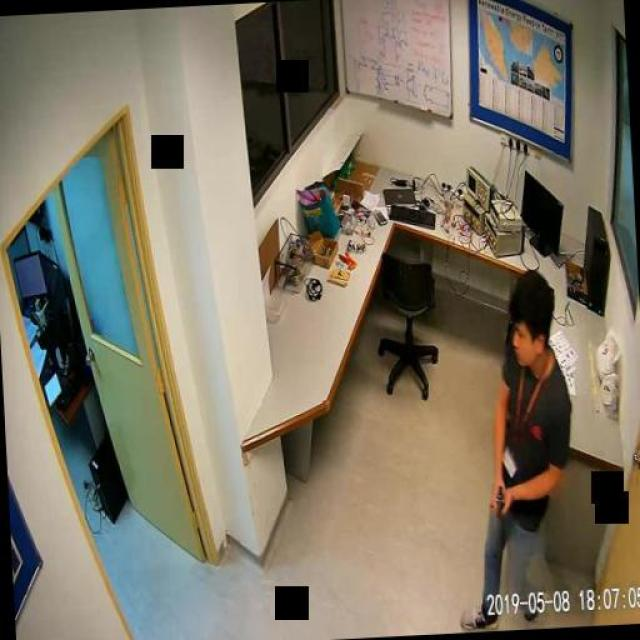gun: (487, 482, 508, 558)
